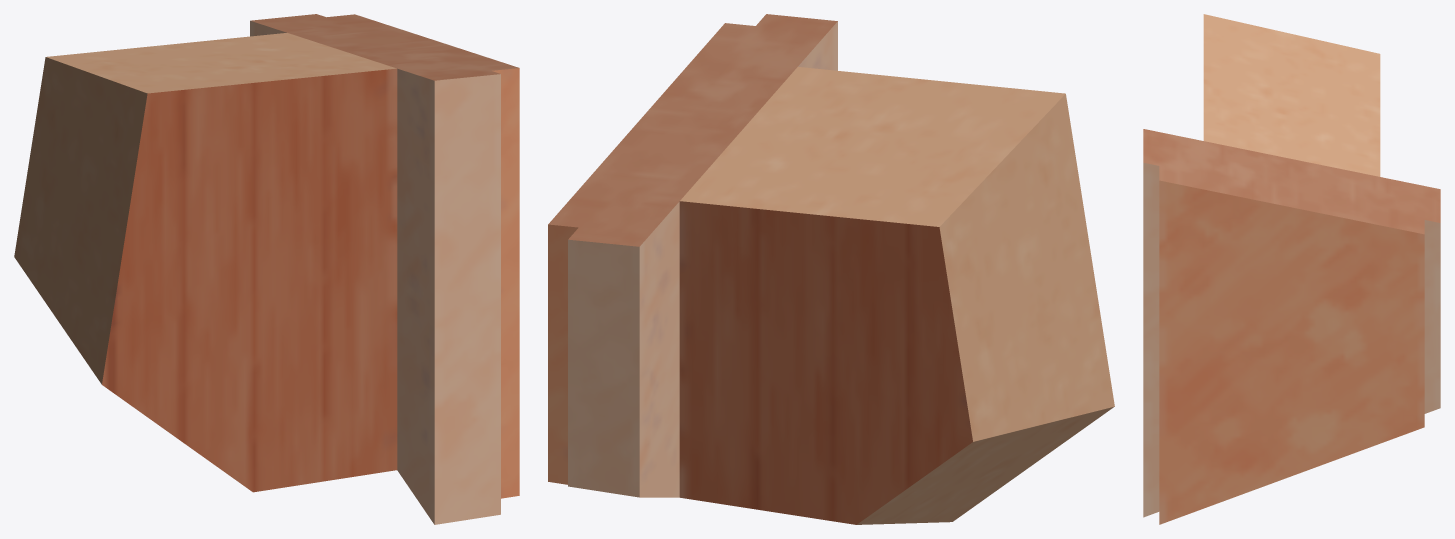
The model's file is towngate_s01.fbx.
3 renders of one model, left to right at view 1: azimuth 30°, elevation 25°; view 2: azimuth 150°, elevation 25°; view 3: azimuth 270°, elevation 25°, orthographic. The views are drawn at different scales.
Parts seen in each view (by area): view 1: towngate_s01; view 2: towngate_s01; view 3: towngate_s01.
Boxes of the visible parts, x1,y1,x2,y2 form: towngate_s01: [14, 14, 519, 524]; towngate_s01: [548, 14, 1114, 524]; towngate_s01: [1143, 14, 1440, 524].
Bounding box in the file's own units: 4.1 × 4.73 × 3.36.
